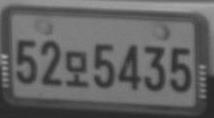2: (40, 40, 61, 86)
3: (143, 46, 166, 91)
4: (117, 44, 142, 90)
5: (15, 39, 37, 84), (93, 44, 115, 88), (170, 46, 191, 92)
모: (64, 50, 89, 88)
